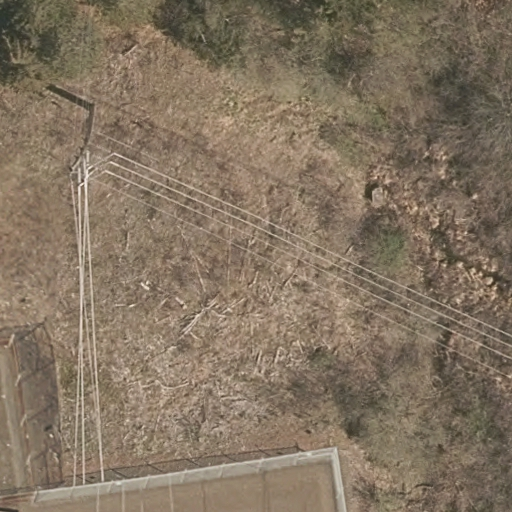DT: (66, 142, 99, 192)
